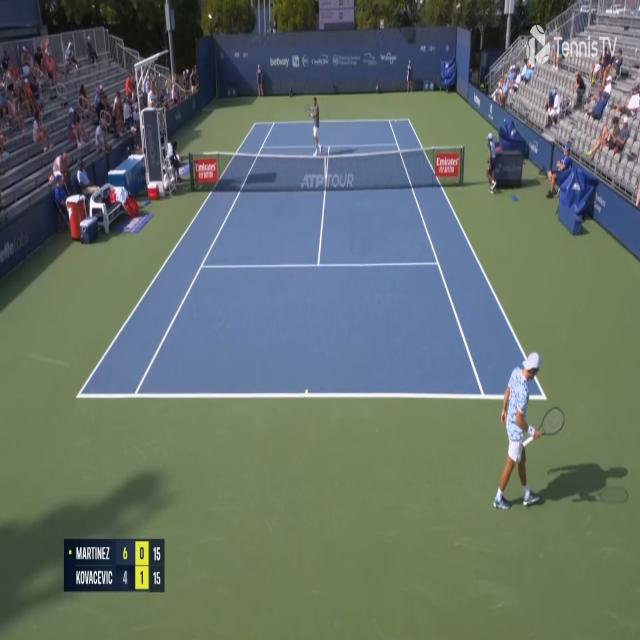tennis-player: (489, 348, 566, 515)
